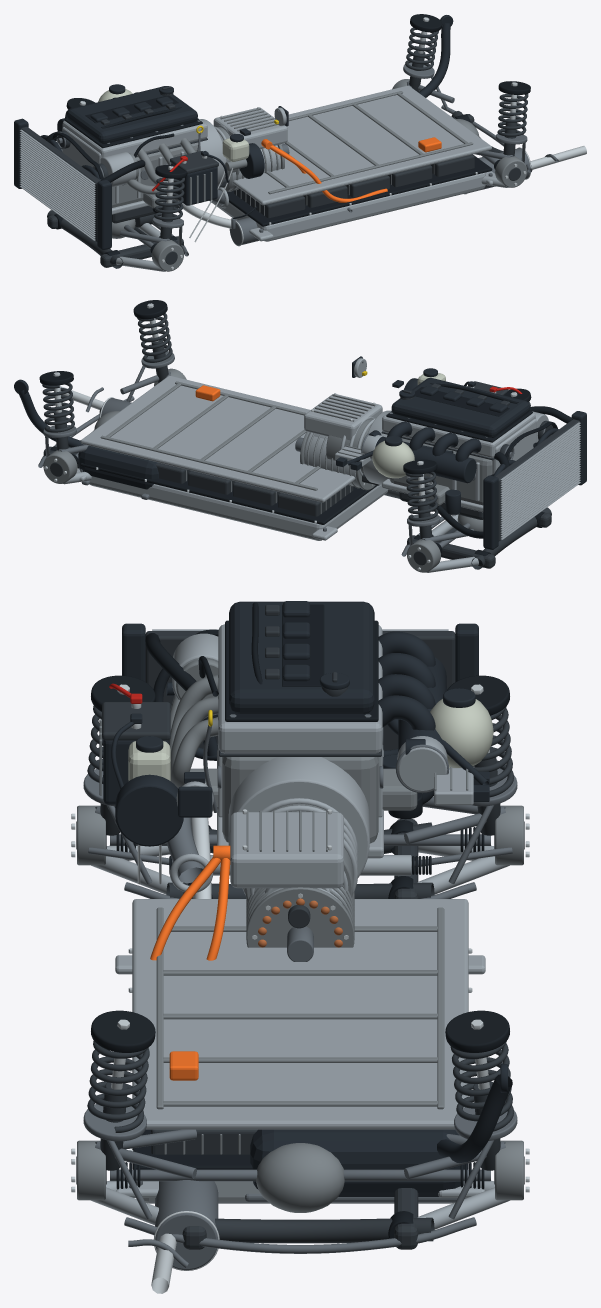
Rendered from mechanical-supplement.glb.
3 views of the same model, one above another, from view 1: azimuth 30°, elevation 25°; view 2: azimuth 150°, elevation 25°; view 3: azimuth 270°, elevation 25° (orthographic). The views are drawn at different scales.
Visible parts, largest first — view 1: batteryHV__batteryCover__mechanical_aluminum, cooling__radiator__mechanical_aluminum, engine__engineExample__mechanical_aluminum, batteryHV__tractionBattery__mechanical_aluminum, engine__engineExample__mechanical_plastic, batteryHV__tractionBattery__mechanical_darksteel, chassis__frontSuspension__mechanical_darksteel, chassis__rearSuspension__mechanical_darksteel, batteryHV__batteryCover__mechanical_cast, batteryHV__tractionBattery__mechanical_rubber, engine__engineExample__mechanical_cast, engine__engineExample__mechanical_rubber (+23 smaller); view 2: batteryHV__batteryCover__mechanical_aluminum, engine__engineExample__mechanical_plastic, cooling__radiator__mechanical_aluminum, batteryHV__tractionBattery__mechanical_aluminum, engine__engineExample__mechanical_aluminum, chassis__frontSuspension__mechanical_darksteel, chassis__rearSuspension__mechanical_darksteel, batteryHV__tractionBattery__mechanical_darksteel, tank__fuelTank__mechanical_plastic, batteryHV__batteryCover__mechanical_cast, engine__engineExample__mechanical_rubber, batteryHV__tractionBattery__mechanical_rubber (+20 smaller); view 3: batteryHV__batteryCover__mechanical_aluminum, engine__engineExample__mechanical_plastic, engine__engineExample__mechanical_aluminum, chassis__rearSuspension__mechanical_darksteel, chassis__rearSuspension__mechanical_steel, batteryHV__batteryCover__mechanical_cast, tank__fuelTank__mechanical_plastic, engine__engineExample__mechanical_cast, chassis__rearSuspension__mechanical_cast, motorElectric__inverter__mechanical_aluminum, chassis__frontSuspension__mechanical_darksteel, chassis__rearSuspension__mechanical_rubber (+31 smaller).
Part boxes in pixels (<box>): batteryHV__batteryCover__mechanical_aluminum: <box>232,85,491,205</box>; cooling__radiator__mechanical_aluminum: <box>19,129,95,240</box>; engine__engineExample__mechanical_aluminum: <box>62,118,239,214</box>; batteryHV__tractionBattery__mechanical_aluminum: <box>209,171,495,241</box>; engine__engineExample__mechanical_plastic: <box>57,86,197,143</box>; batteryHV__tractionBattery__mechanical_darksteel: <box>234,154,474,217</box>; chassis__frontSuspension__mechanical_darksteel: <box>47,177,184,268</box>; chassis__rearSuspension__mechanical_darksteel: <box>405,27,528,180</box>; batteryHV__batteryCover__mechanical_cast: <box>265,91,473,194</box>; batteryHV__tractionBattery__mechanical_rubber: <box>227,155,492,226</box>; engine__engineExample__mechanical_cast: <box>112,127,239,208</box>; engine__engineExample__mechanical_rubber: <box>45,95,202,213</box>; batteryHV__batteryCover__mechanical_aluminum: <box>80,375,355,502</box>; engine__engineExample__mechanical_plastic: <box>368,378,529,514</box>; cooling__radiator__mechanical_aluminum: <box>500,422,580,539</box>; batteryHV__tractionBattery__mechanical_aluminum: <box>76,468,388,540</box>; engine__engineExample__mechanical_aluminum: <box>314,410,548,512</box>; chassis__frontSuspension__mechanical_darksteel: <box>405,402,551,569</box>; chassis__rearSuspension__mechanical_darksteel: <box>42,313,172,476</box>; batteryHV__tractionBattery__mechanical_darksteel: <box>156,463,353,516</box>; tank__fuelTank__mechanical_plastic: <box>14,379,158,489</box>; batteryHV__batteryCover__mechanical_cast: <box>100,381,320,490</box>; engine__engineExample__mechanical_rubber: <box>386,383,557,511</box>; batteryHV__tractionBattery__mechanical_rubber: <box>80,463,377,524</box>; batteryHV__batteryCover__mechanical_aluminum: <box>132,899,468,1129</box>; engine__engineExample__mechanical_plastic: <box>229,601,446,768</box>; engine__engineExample__mechanical_aluminum: <box>169,624,447,895</box>; chassis__rearSuspension__mechanical_darksteel: <box>76,1040,524,1249</box>; chassis__rearSuspension__mechanical_steel: <box>83,1104,517,1253</box>; batteryHV__batteryCover__mechanical_cast: <box>156,907,444,1109</box>; tank__fuelTank__mechanical_plastic: <box>250,1064,512,1196</box>; engine__engineExample__mechanical_cast: <box>169,659,417,902</box>; chassis__rearSuspension__mechanical_cast: <box>77,1140,523,1212</box>; motorElectric__inverter__mechanical_aluminum: <box>230,812,343,888</box>; chassis__frontSuspension__mechanical_darksteel: <box>76,705,524,898</box>; chassis__rearSuspension__mechanical_rubber: <box>91,1010,509,1238</box>.
Size of the model in its own units: 4.31 by 1.18 by 1.73.
